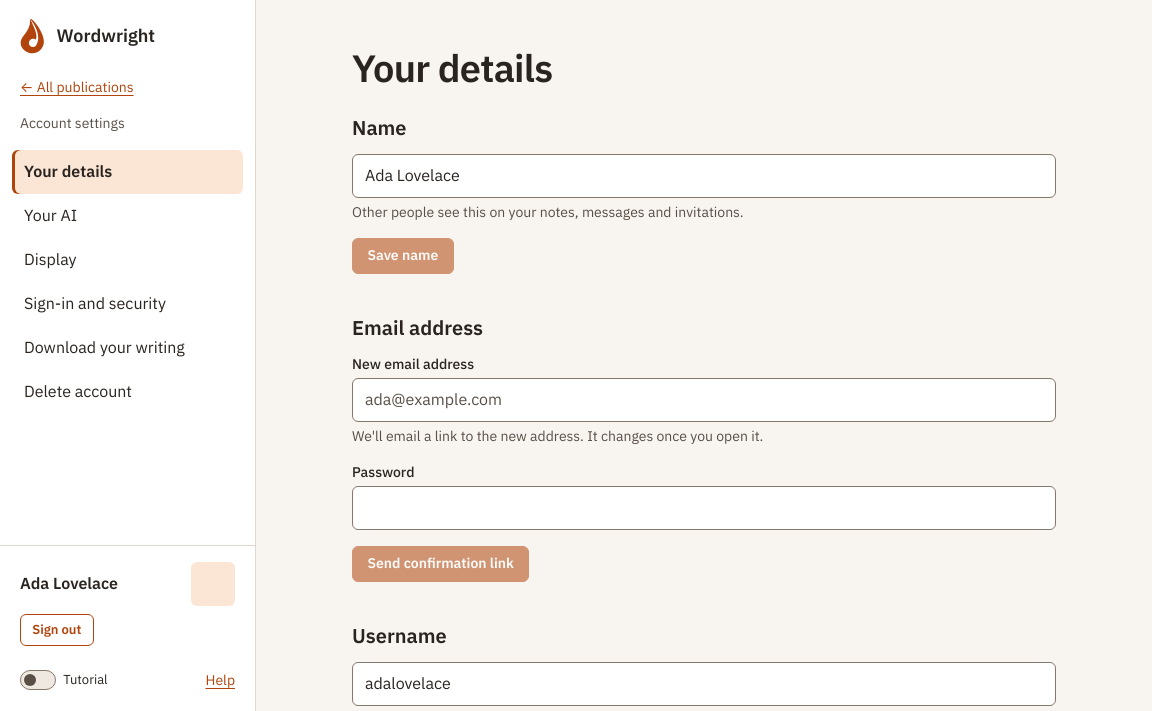
it: username on the account page › explains a badly formed or reserved username, and will not save it
This screenshot has width=1152, height=711.
Replace the text in the 2nd field named "Username" with "has space" at x=704, y=684, box [352, 662, 1056, 706]
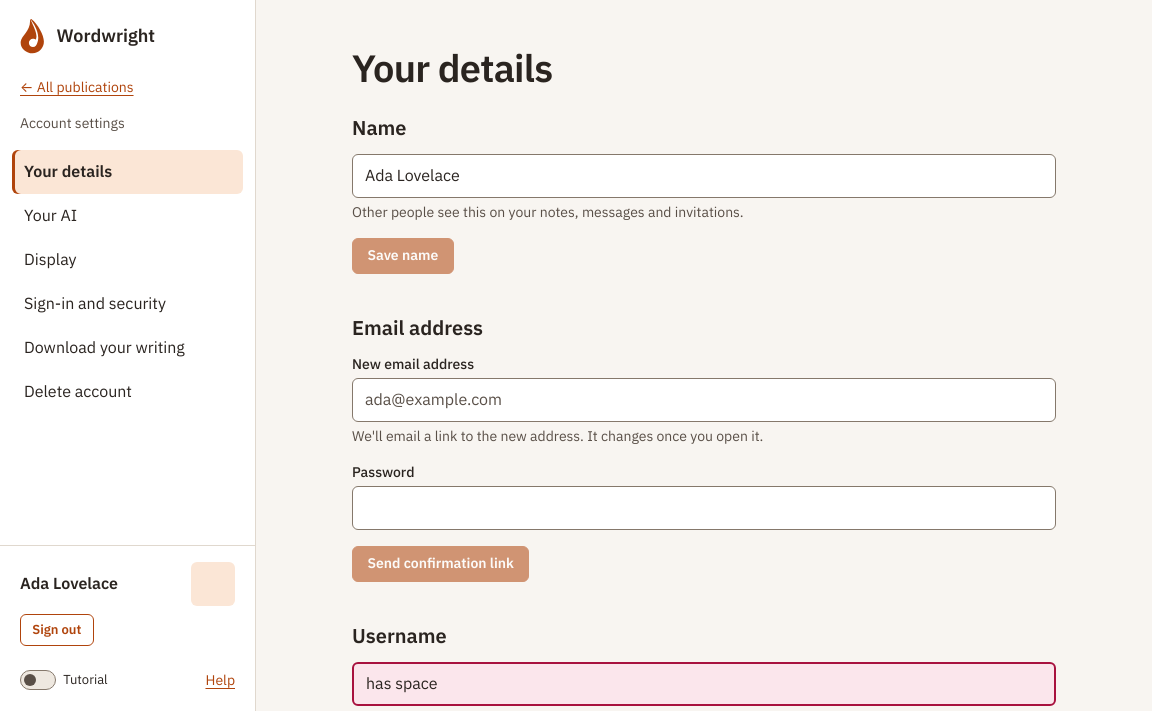
Replace the text in the 2nd field named "Username" with "admin" at x=704, y=684, box [352, 662, 1056, 706]
(page scrolled)
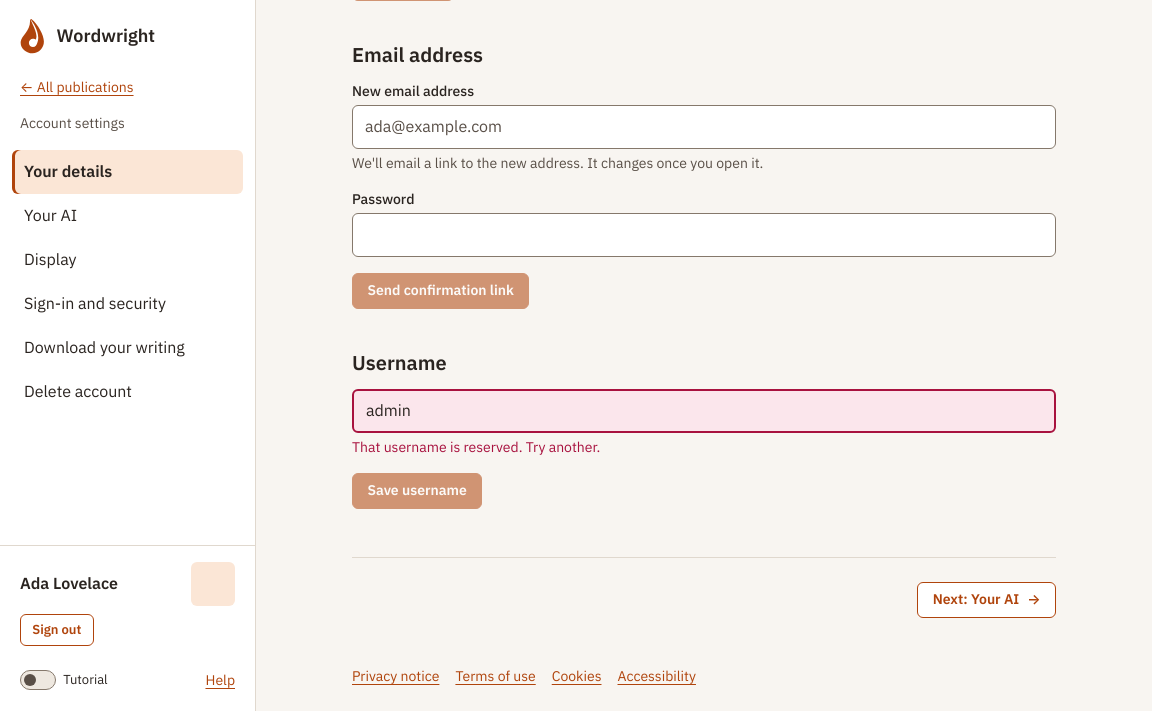
Expected: the button "Save username" is disabled, [352, 473, 482, 509]
Now the text "That username is reserved. Try another." is shown, box [352, 438, 600, 456]
